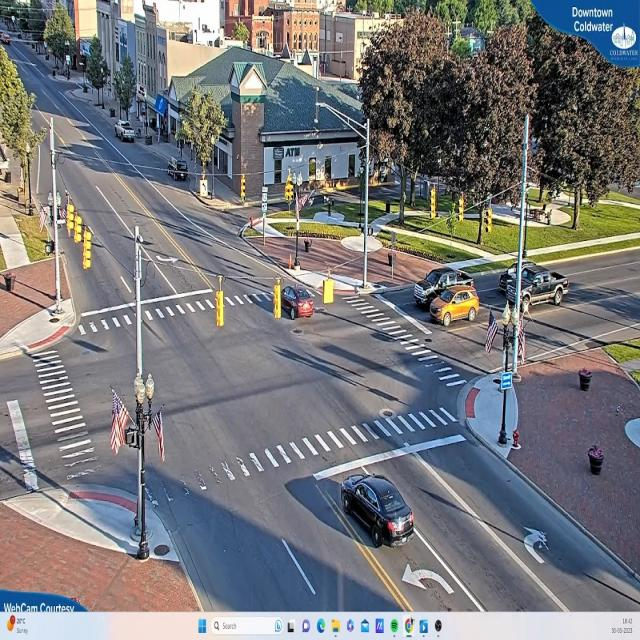car: (342, 476, 416, 550), (518, 266, 567, 318), (412, 265, 464, 303), (430, 286, 478, 326), (280, 280, 314, 321), (586, 441, 606, 475), (164, 157, 189, 180), (115, 122, 136, 143)
